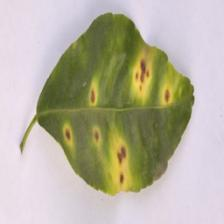canker: (65, 67, 194, 186)
